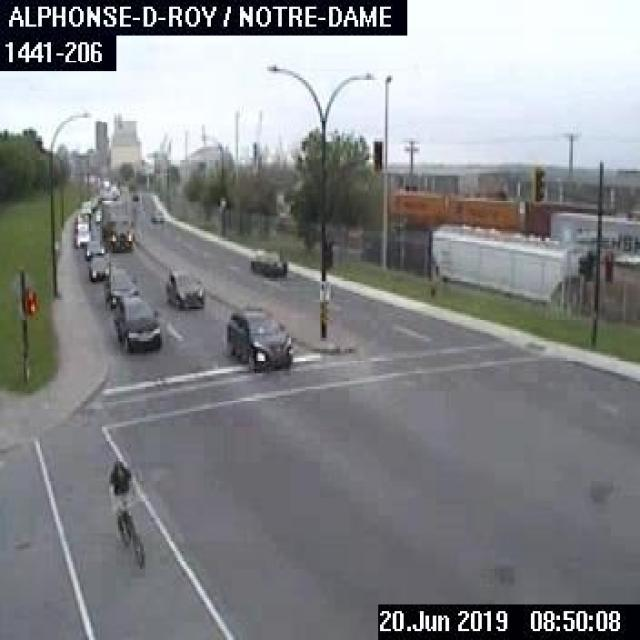cyclist: (105, 460, 144, 569)
vehicle: (222, 302, 291, 369), (112, 294, 162, 354), (98, 196, 134, 256), (160, 266, 204, 306), (103, 265, 140, 311), (248, 249, 286, 278), (84, 251, 112, 282), (80, 236, 104, 259), (146, 211, 166, 222)
